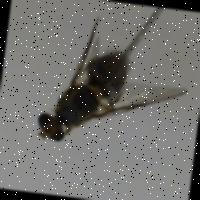Oriental-fruit-fly: (26, 6, 200, 165)
